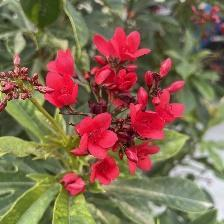jatropha: (76, 113, 119, 162), (111, 28, 153, 63), (131, 104, 166, 144), (43, 71, 79, 109)
